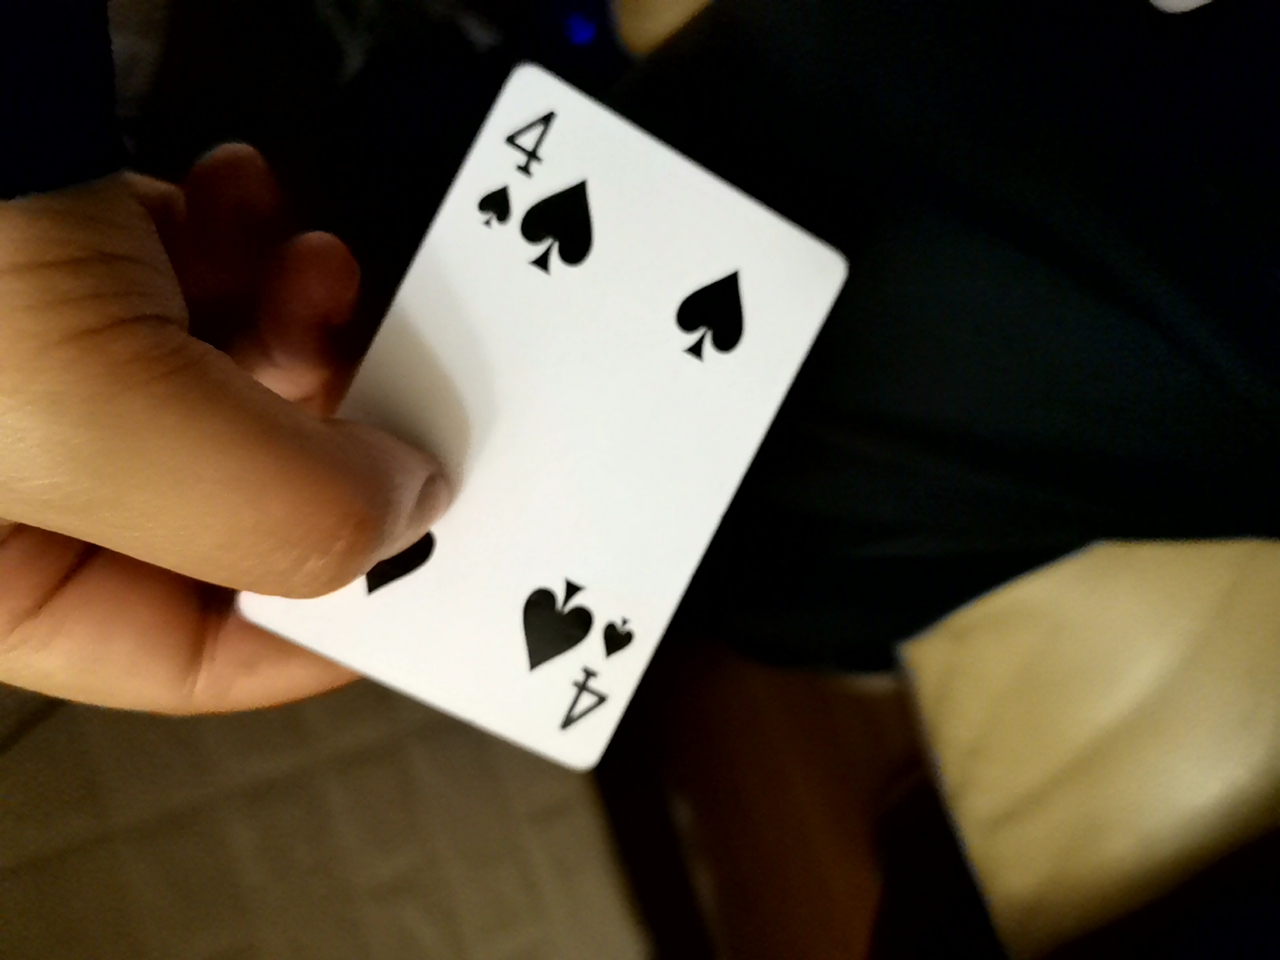ht 4: (259, 61, 839, 790)
